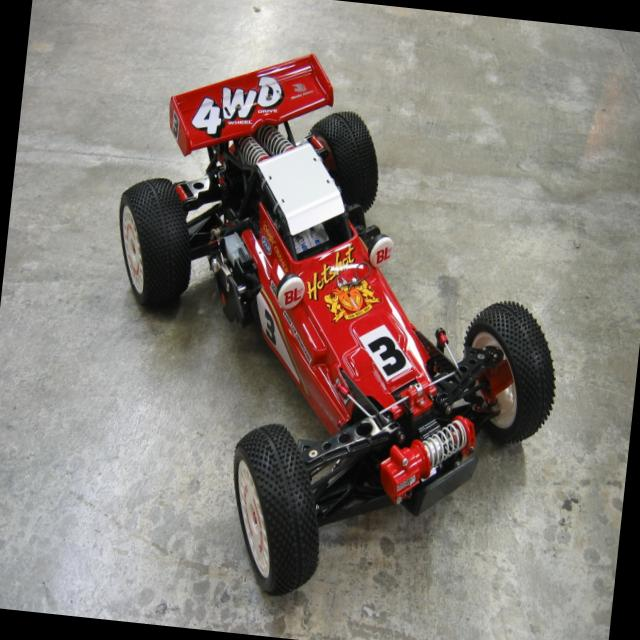Toy: (55, 0, 606, 634)
